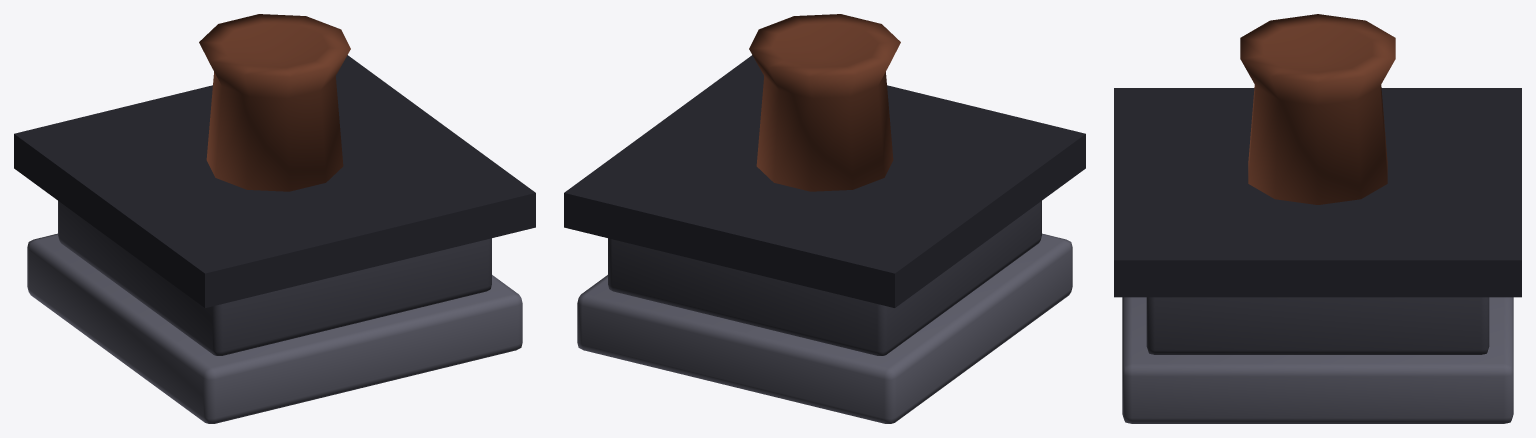
File: kit_chimney_cap.glb
3 views of the same model, side by side, from view 1: azimuth 30°, elevation 25°; view 2: azimuth 150°, elevation 25°; view 3: azimuth 270°, elevation 25° (orthographic). The views are drawn at different scales.
Parts seen in each view (by area): view 1: kit_chimney_cap; view 2: kit_chimney_cap; view 3: kit_chimney_cap.
Part boxes in pixels (bbox=[...]): kit_chimney_cap: bbox=[14, 14, 535, 423]; kit_chimney_cap: bbox=[564, 14, 1085, 423]; kit_chimney_cap: bbox=[1114, 14, 1521, 423].
Bounding box in the file's own units: 0.5 × 0.4 × 0.5.
